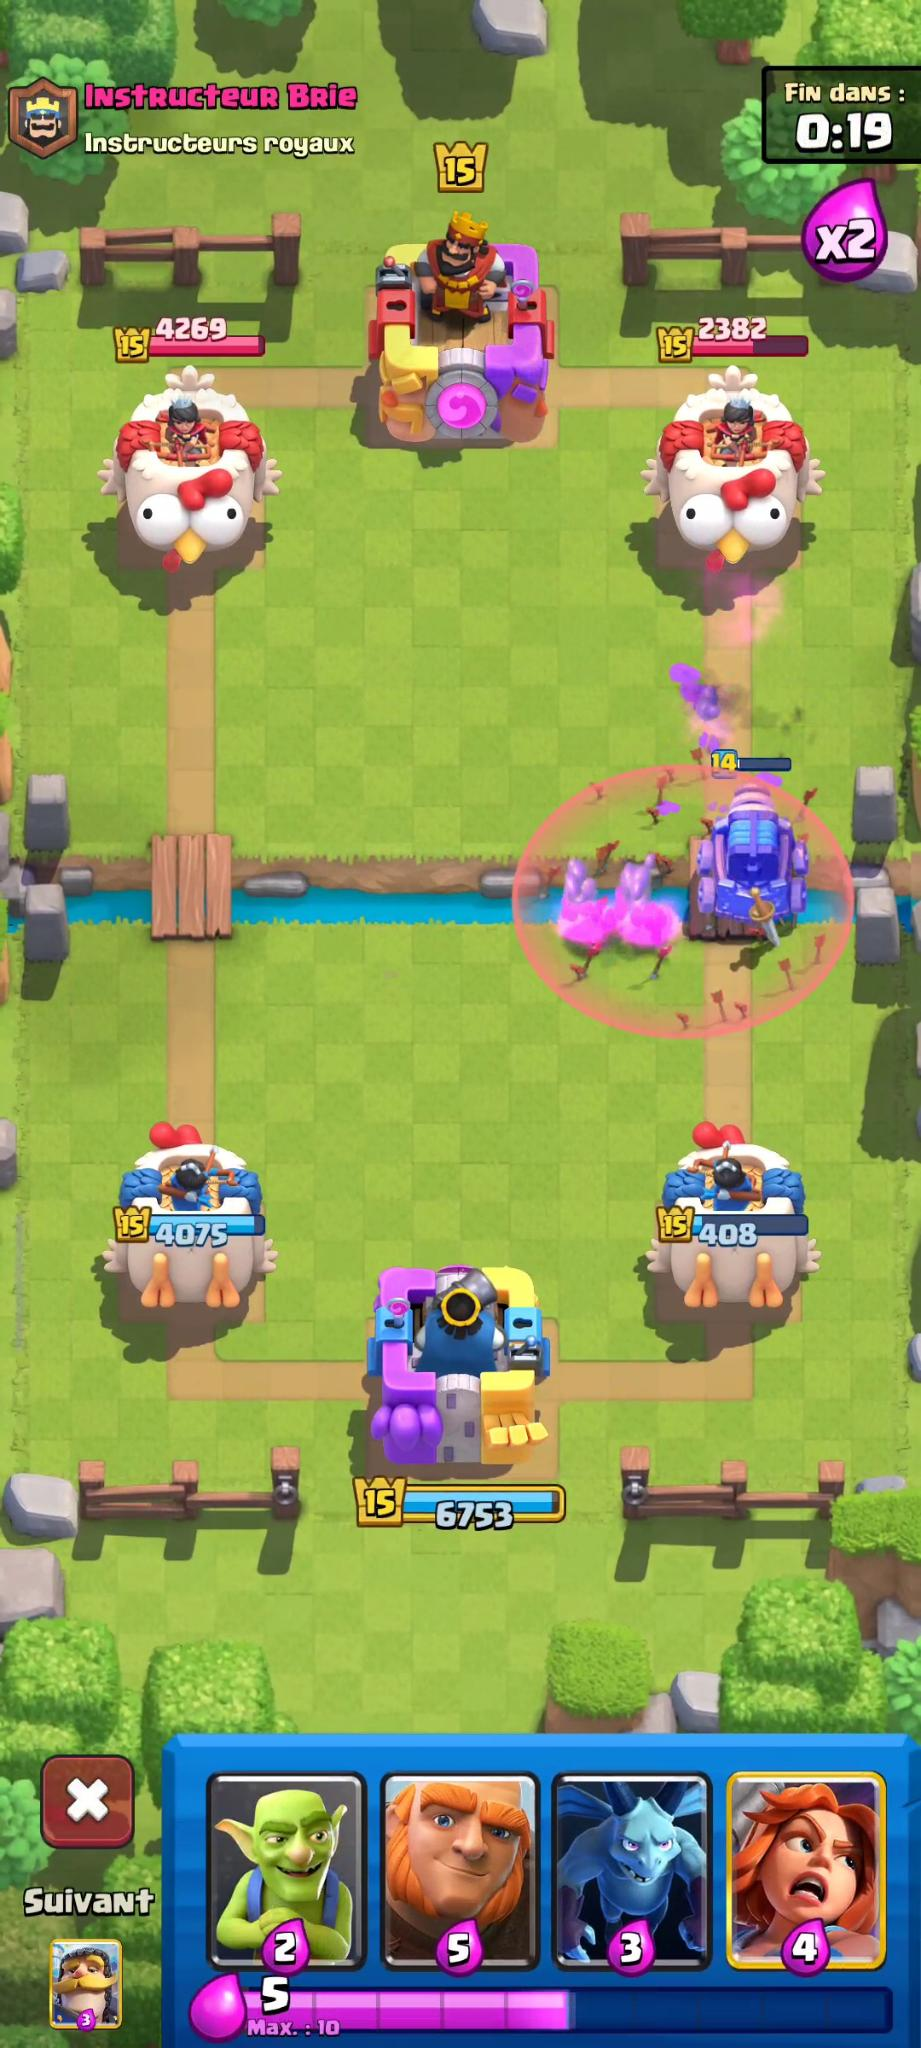zappy: (674, 776, 830, 957)
